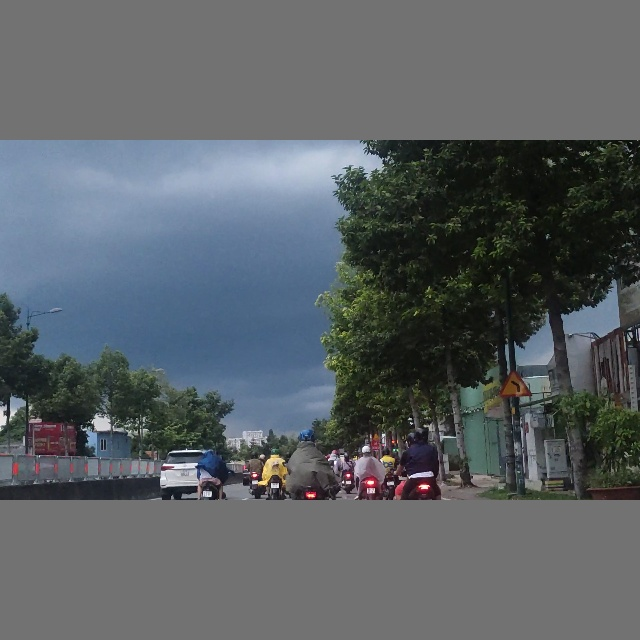W.201a: (498, 368, 534, 398)
